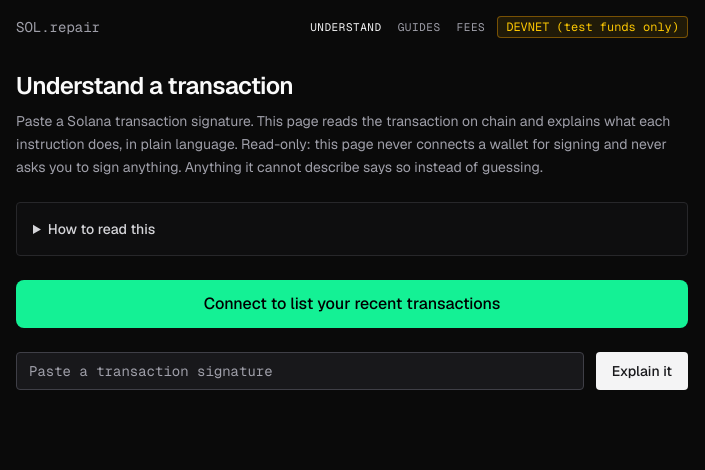
Test: understand page outcomes › says honestly when no transaction was found on this network
Type "2V4dcrHEApzHDS9PqxWo1KeeK8a3HvVLyPsxVfq3yEktjdqH8NX77nzGZVT4QXTaVy8sWvszA8xDx8N2UrYGfrcw" into the field labelled "Paste a transaction signature" at (300, 371), box left=16, top=352, right=584, bottom=390
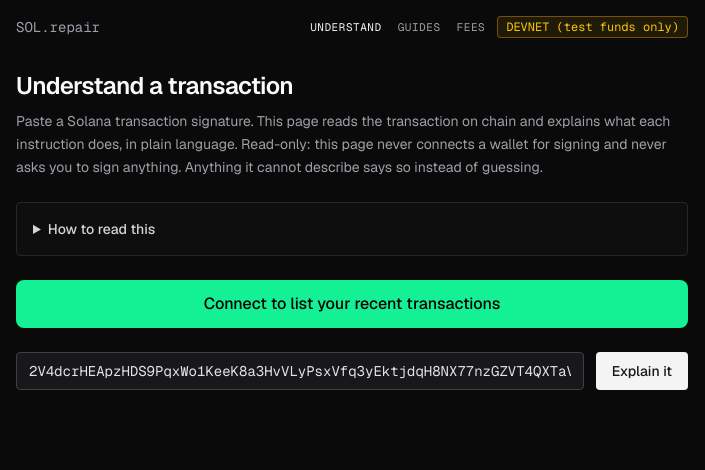
Click the button "Explain it" at (642, 371), box left=596, top=352, right=688, bottom=390
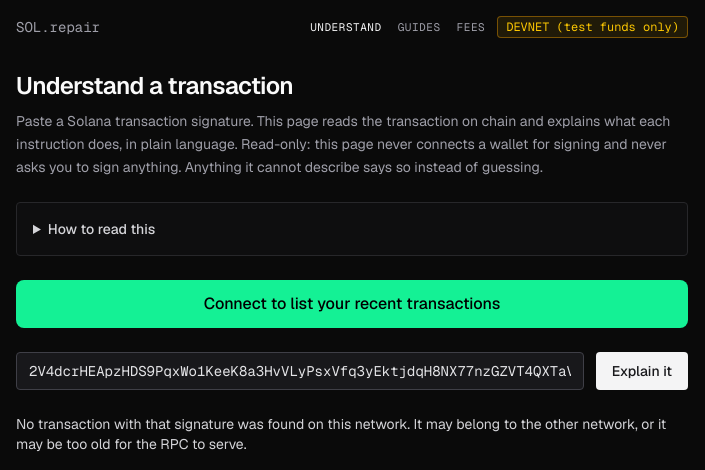
Check: the text "No transaction with that signature was found" is shown, box left=16, top=415, right=666, bottom=453
